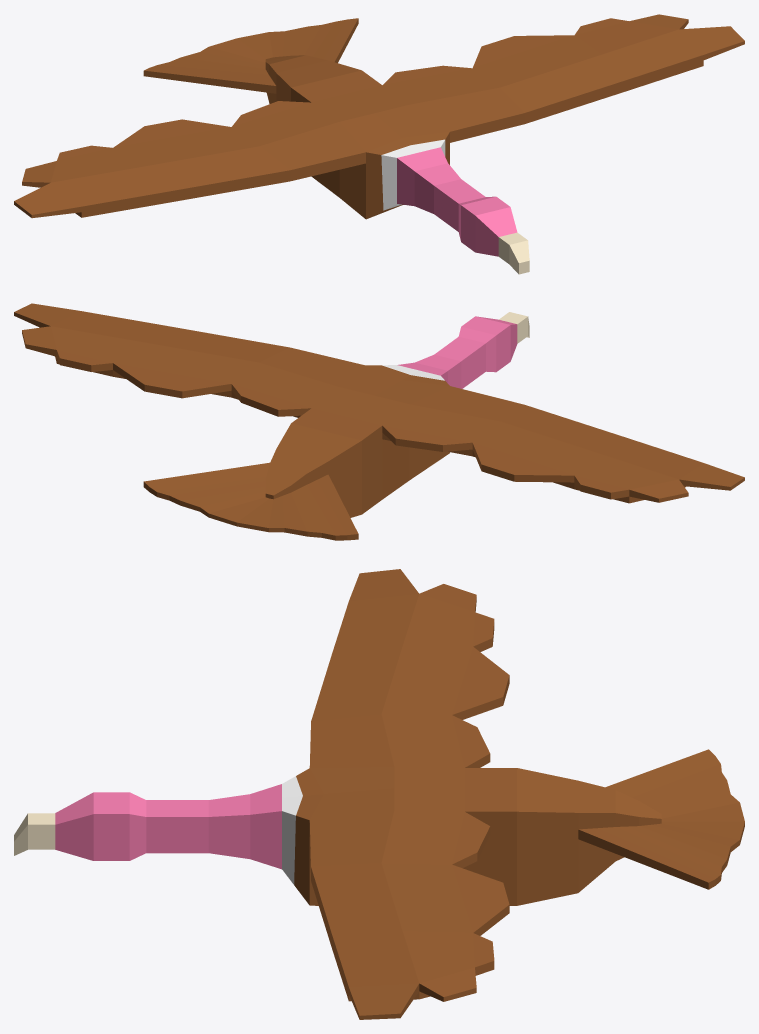
File: Vulture.fbx
3 views of the same model, one above another, from view 1: azimuth 30°, elevation 25°; view 2: azimuth 150°, elevation 25°; view 3: azimuth 270°, elevation 25° (orthographic). The views are drawn at different scales.
Visible parts, largest first — view 1: Cube; view 2: Cube; view 3: Cube.
Boxes of the visible parts, bbox=[...] form: Cube: bbox=[14, 14, 744, 274]; Cube: bbox=[14, 303, 744, 540]; Cube: bbox=[14, 569, 744, 1019].
Size of the model in its own units: 2231 by 226 by 1550.
